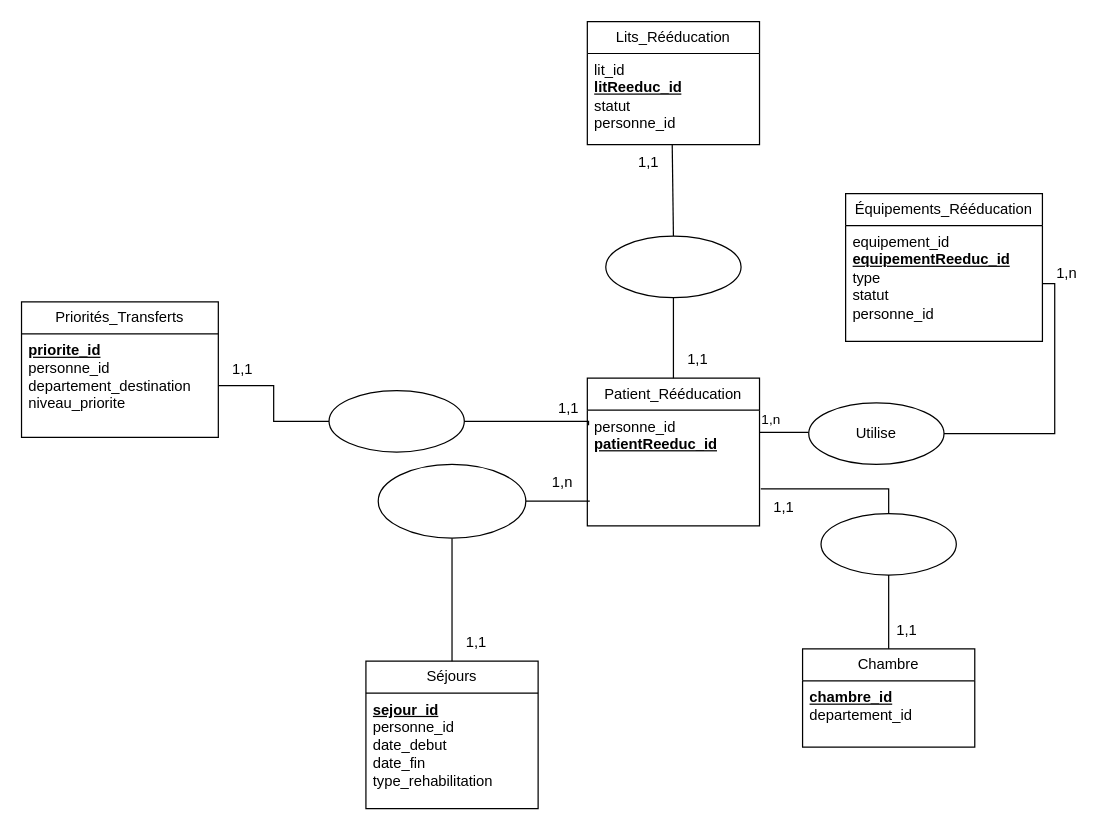
Some shapes in this 1113 by 834 pixel diagram are drawn without their labels. The centre of each missing label's shape, as x and y in pixels:
"Dort" belongs at point (673, 266).
"Possède" belongs at point (396, 420).
"Réalise" belongs at point (451, 500).
"Séjourne" belongs at point (888, 543).
